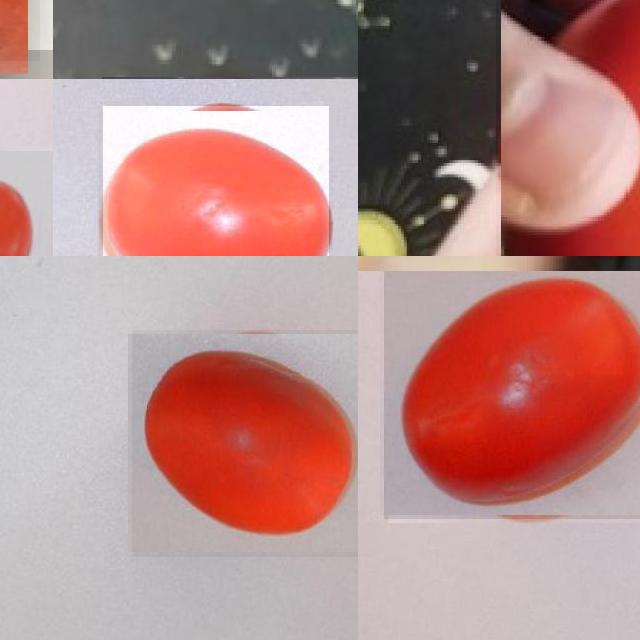0: (496, 0, 640, 256)
Fresh Tomato: (384, 271, 640, 519), (131, 330, 358, 557), (103, 106, 329, 256)
